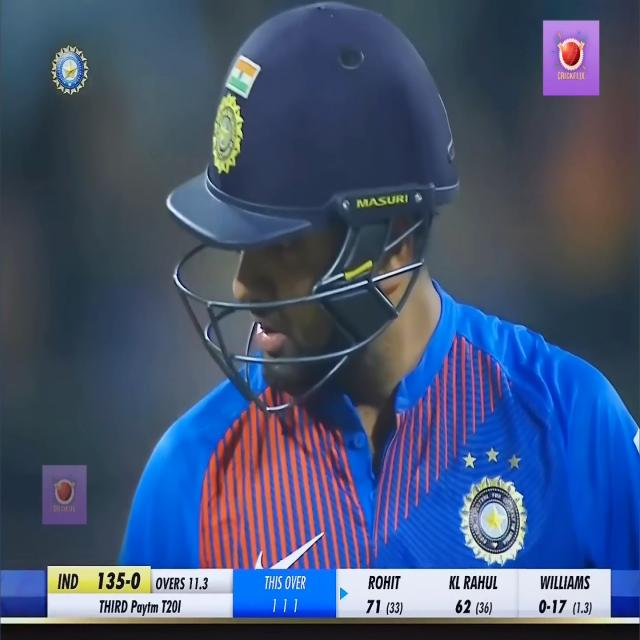fully_visible: (129, 592, 161, 618)
